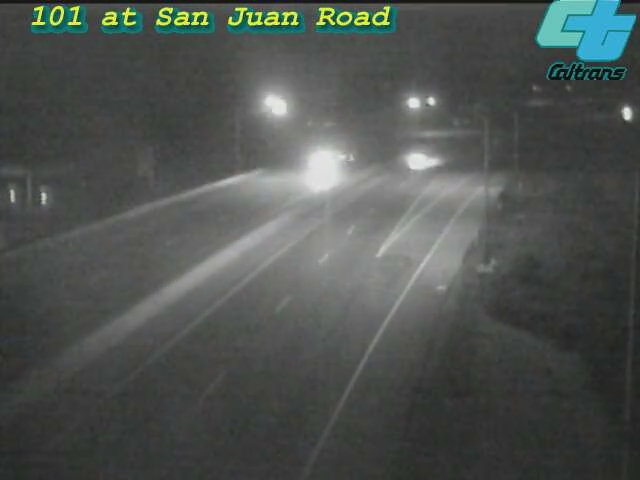vehicle: (290, 123, 370, 203), (391, 134, 441, 184), (603, 88, 640, 138)
